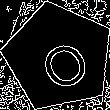O_NW: (27, 24, 91, 90)
